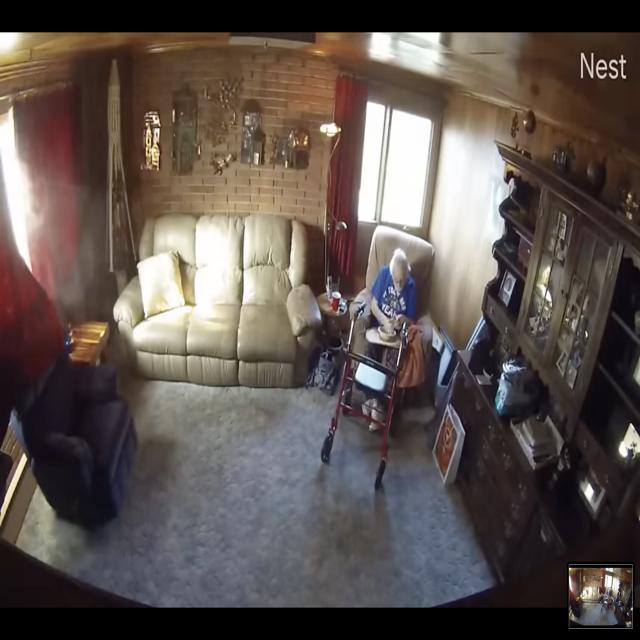Atencao: (15, 128, 121, 352)
